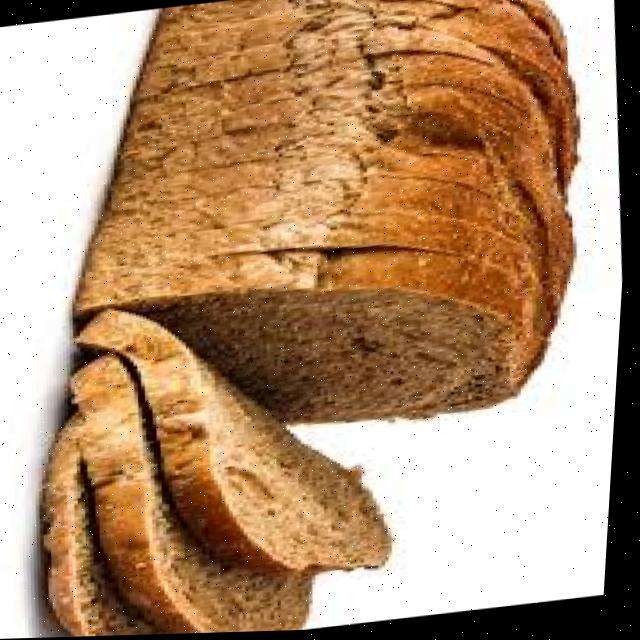Bread: (80, 0, 580, 425), (81, 311, 398, 574), (76, 355, 317, 635), (50, 417, 173, 637)
